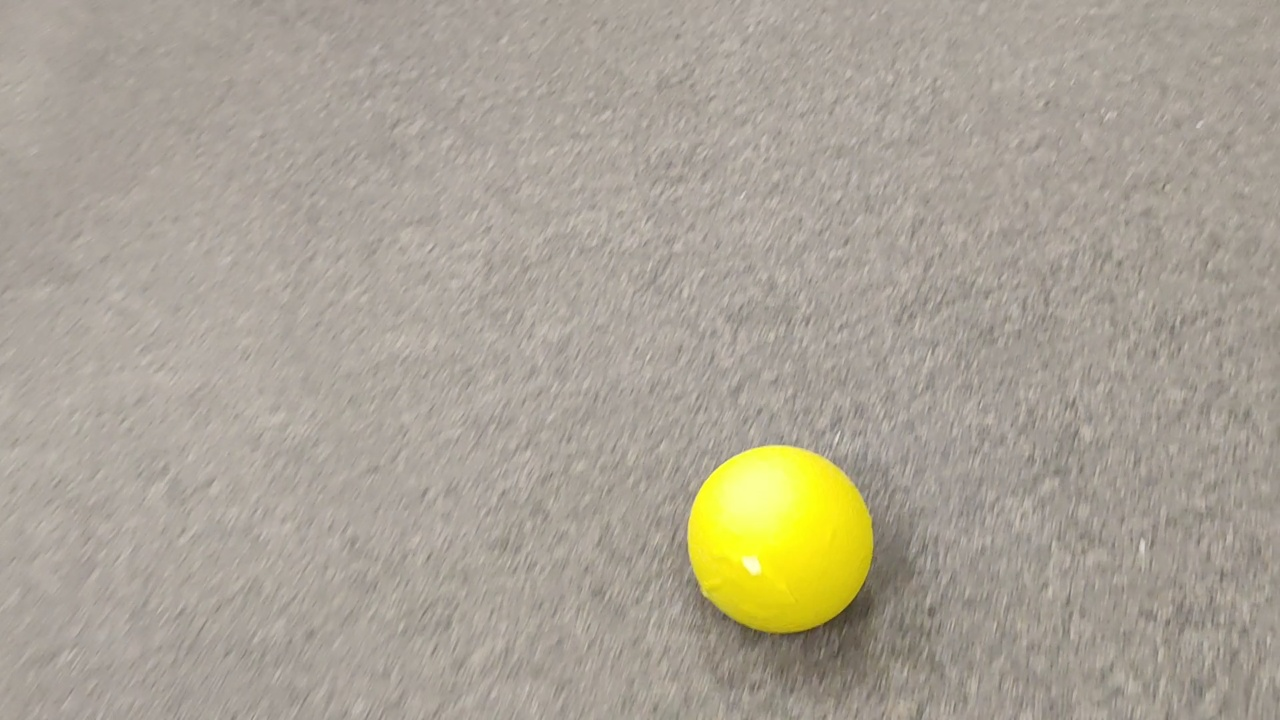Ball: (687, 444, 874, 633)
